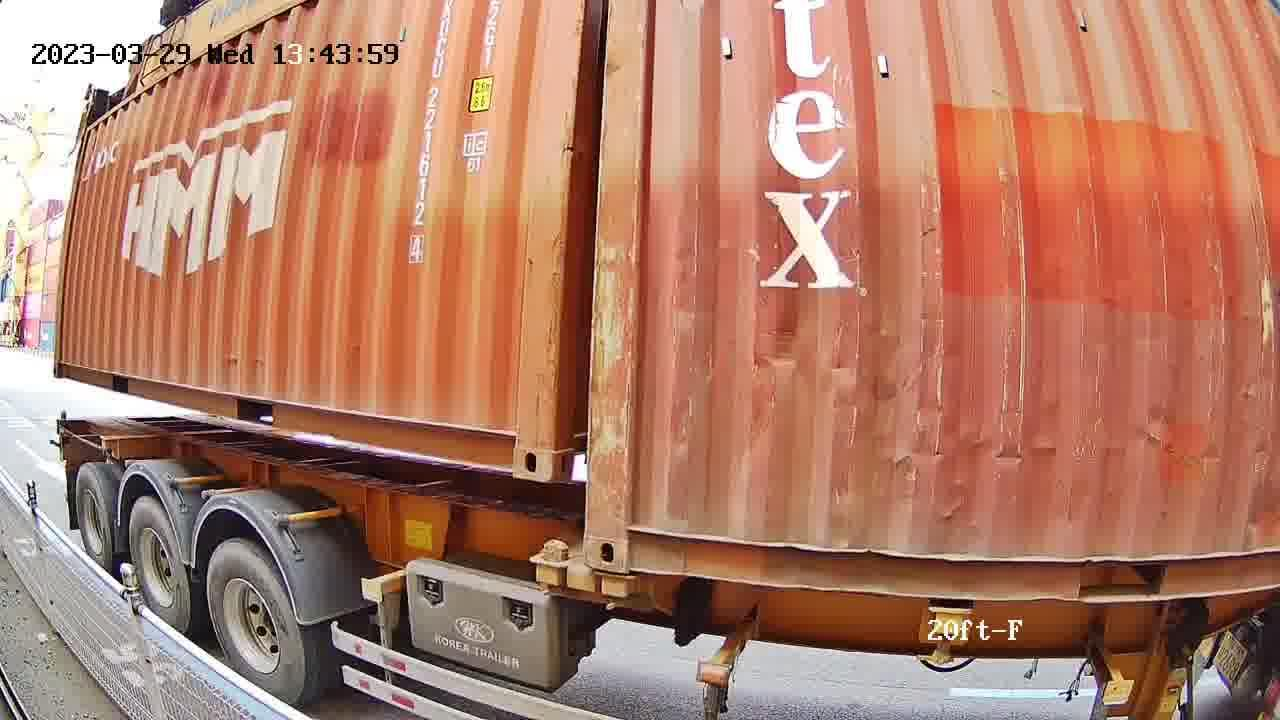Cone: (535, 539, 571, 594), (595, 571, 633, 608)
Hole_L: (584, 496, 669, 575)
Hole_R: (478, 399, 552, 481)
Tire: (208, 540, 301, 701), (128, 501, 190, 634), (75, 468, 114, 571)
